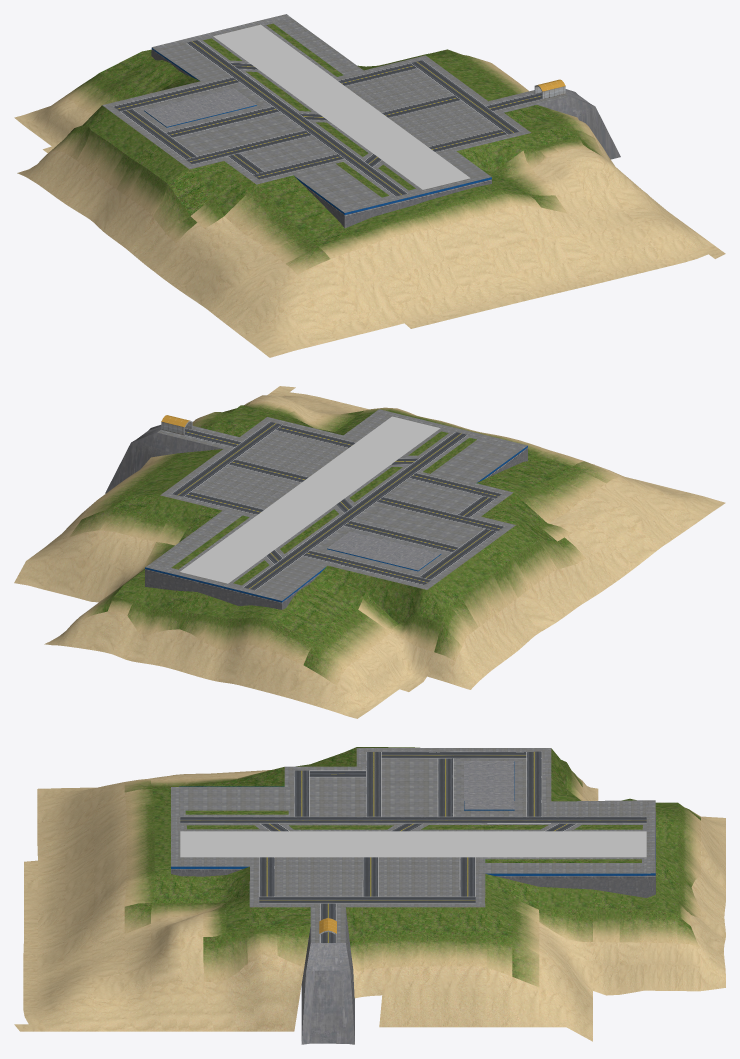
The model's file is For_Screens.fbx.
3 views of the same model, one above another, from view 1: azimuth 30°, elevation 25°; view 2: azimuth 150°, elevation 25°; view 3: azimuth 270°, elevation 25° (orthographic). The views are drawn at different scales.
Parts seen in each view (by area): view 1: polySurface3, Runway, polySurface1, polySurface2; view 2: polySurface3, Runway, polySurface1, polySurface2; view 3: polySurface3, Runway, polySurface1, polySurface2.
Boxes of the visible parts, <box> form: polySurface3: <box>14,14,725,357</box>; Runway: <box>213,24,470,189</box>; polySurface1: <box>113,40,407,196</box>; polySurface2: <box>338,60,542,152</box>; polySurface3: <box>14,386,725,718</box>; Runway: <box>180,416,440,583</box>; polySurface1: <box>243,432,504,590</box>; polySurface2: <box>172,422,355,514</box>; polySurface3: <box>14,747,725,1044</box>; Runway: <box>180,831,646,857</box>; polySurface1: <box>180,751,646,831</box>; polySurface2: <box>259,857,475,942</box>.
Bounding box in the file's own units: 4247 × 753 × 5007.
